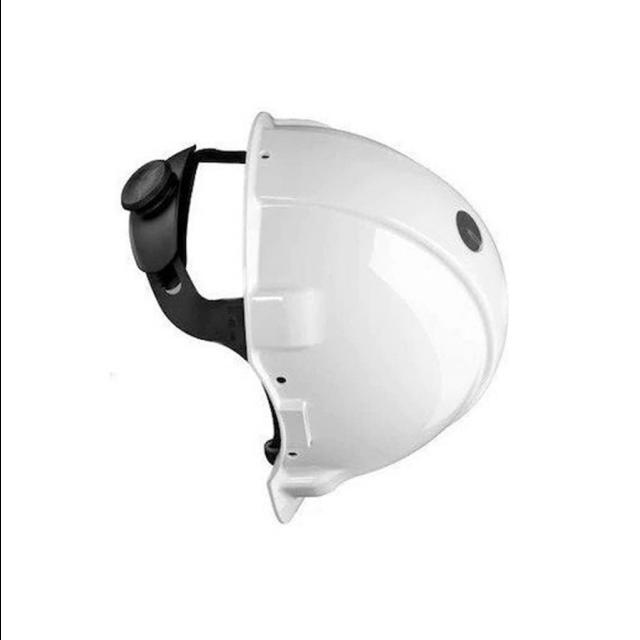safety_helmet: (118, 111, 508, 526)
